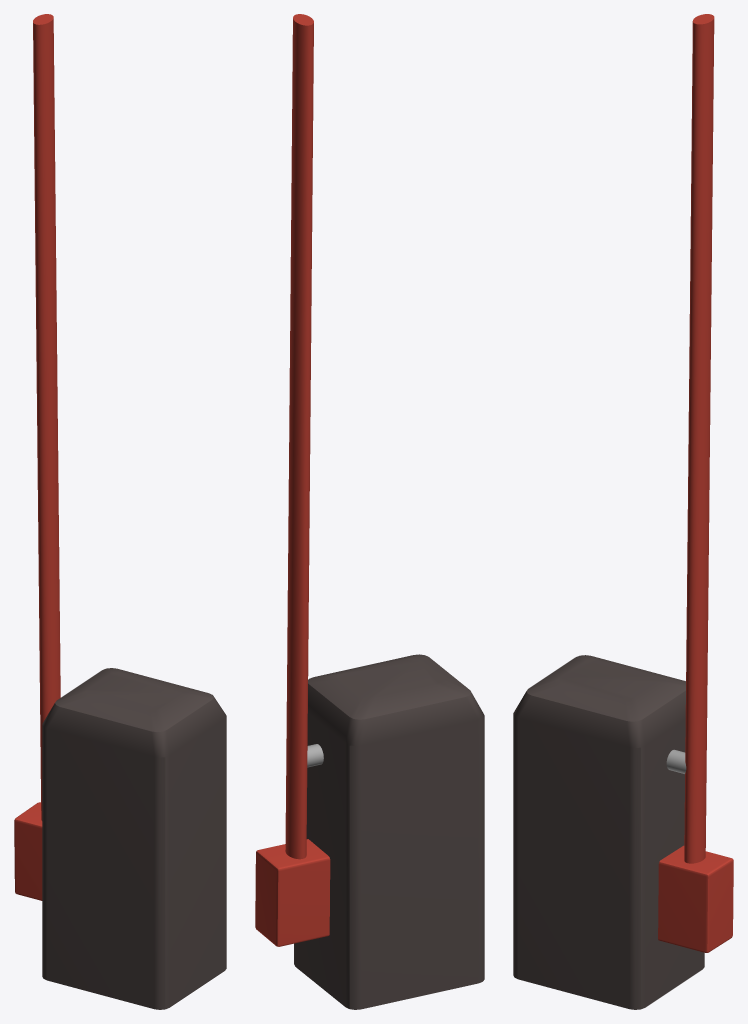
The model's file is BoomBarrierModel.fbx.
3 views of the same model, side by side, from view 1: azimuth 90°, elevation 25°; view 2: azimuth 150°, elevation 25°; view 3: azimuth 270°, elevation 25° (orthographic). The views are drawn at different scales.
Visible parts, largest first — view 1: BoomBarrierBase, Barrier, BarrierWeight; view 2: BoomBarrierBase, Barrier, BarrierWeight; view 3: BoomBarrierBase, Barrier, BarrierWeight.
Boxes of the visible parts, x1,y1,x2,y2 form: BoomBarrierBase: (42,668,226,1009); Barrier: (33,14,60,820); BarrierWeight: (14,802,42,900); BoomBarrierBase: (294,654,484,1009); Barrier: (285,14,313,859); BarrierWeight: (255,839,330,946); BoomBarrierBase: (513,655,704,1009); Barrier: (684,14,714,863); BarrierWeight: (658,845,733,952).
Bounding box in the file's own units: 0.4279 × 2.43 × 0.4995.
